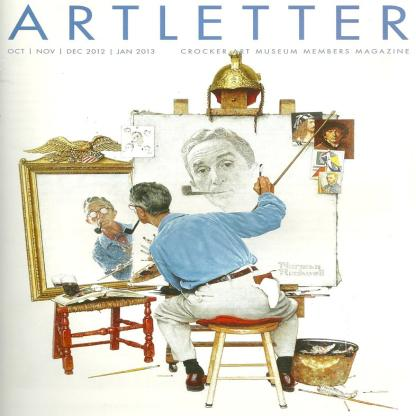Helmet: (207, 48, 267, 132)
